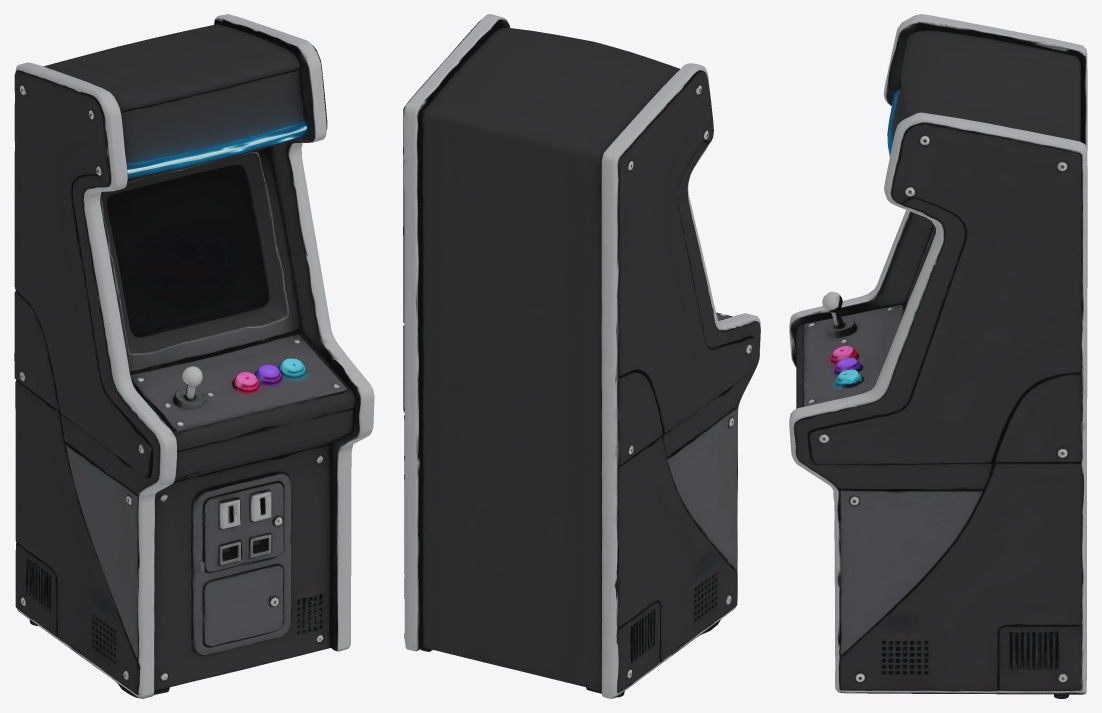
Rendered from prop-cabinet.glb.
3 renders of one model, left to right at view 1: azimuth 30°, elevation 25°; view 2: azimuth 150°, elevation 25°; view 3: azimuth 270°, elevation 25°, orthographic.
Visible parts, largest first — view 1: body; view 2: body; view 3: body.
Boxes of the visible parts, x1,y1,x2,y2 form: body: [14, 14, 374, 698]; body: [403, 14, 760, 698]; body: [789, 14, 1087, 698].
Bounding box in the file's own units: 0.401 × 1 × 0.4626.
Materials: 1 (1 with a texture image).
